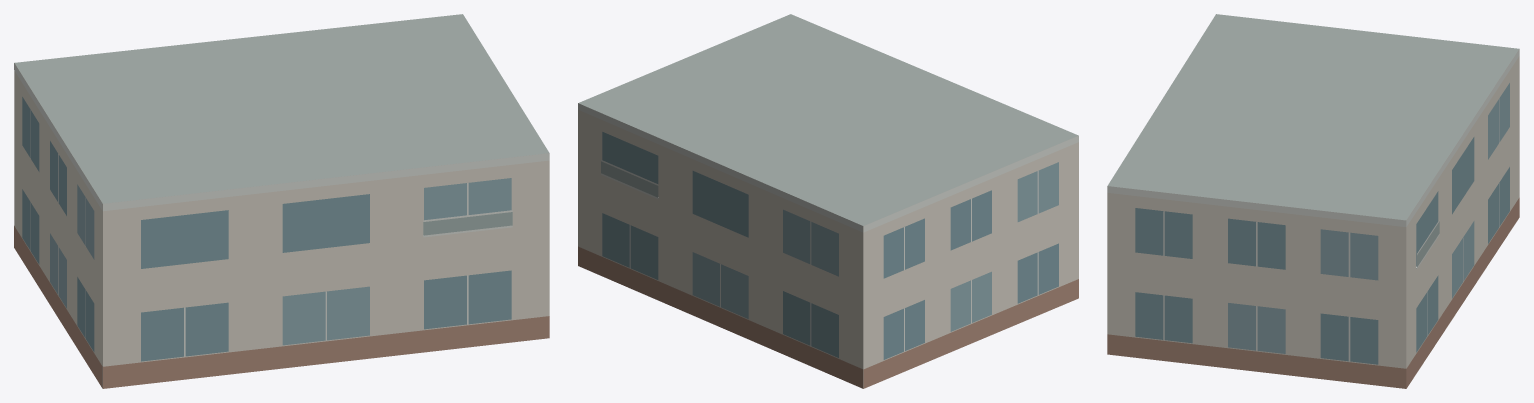
Rendered from survey-upis-32718410.glb.
The picture shows the model from 3 angles, left to right: view 1: azimuth 30°, elevation 25°; view 2: azimuth 150°, elevation 25°; view 3: azimuth 270°, elevation 25°; orthographic projection. The views are drawn at different scales.
Parts seen in each view (by area): view 1: survey-upis-32718410.tmp; view 2: survey-upis-32718410.tmp; view 3: survey-upis-32718410.tmp.
Boxes of the visible parts, box(x1,y1,x2,y2) form: survey-upis-32718410.tmp: box(14, 14, 549, 388); survey-upis-32718410.tmp: box(578, 14, 1078, 388); survey-upis-32718410.tmp: box(1107, 14, 1519, 388).
Bounding box in the file's own units: 16.04 × 6.1 × 13.54.
